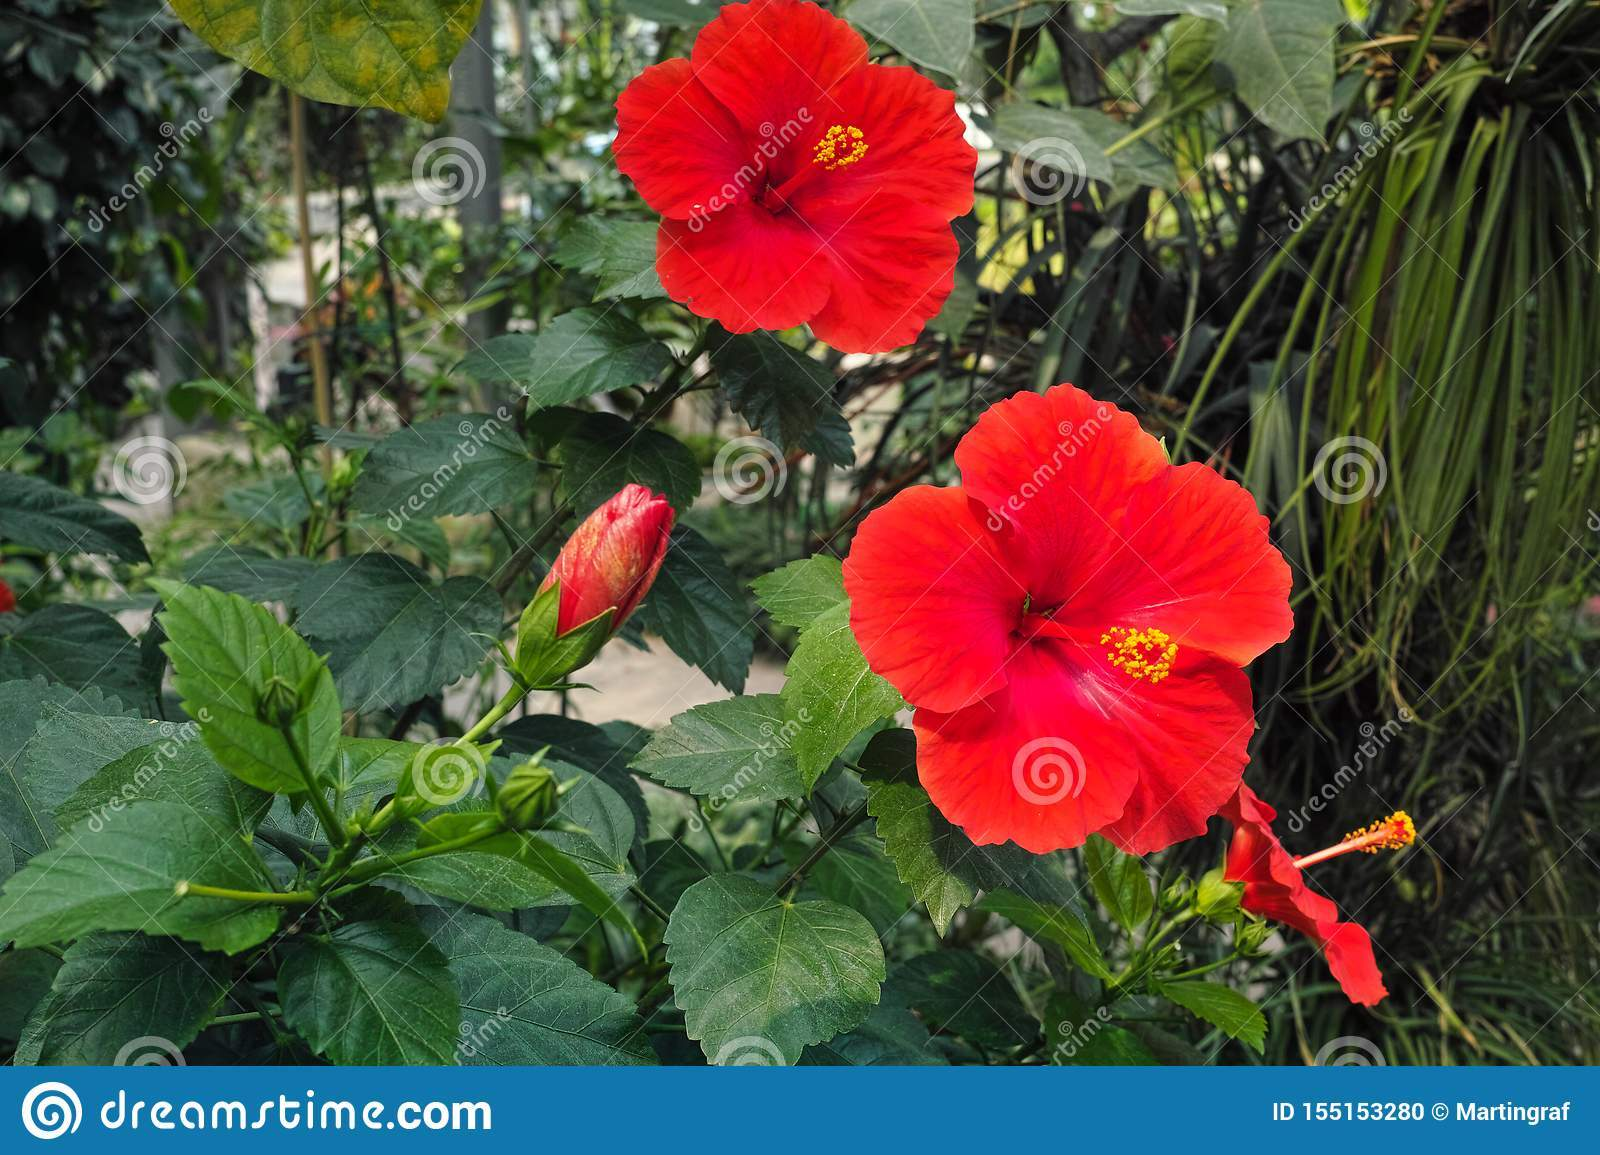Hibiscus-rosa-sinesis: (840, 389, 1291, 848), (607, 2, 978, 349), (1230, 802, 1417, 1013)
